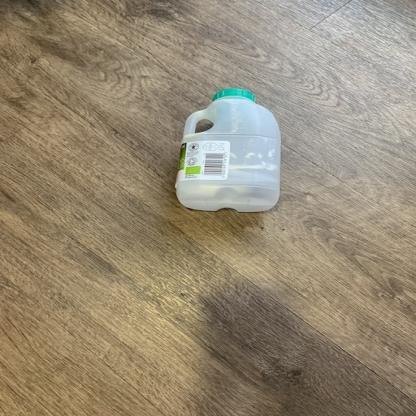trash: (174, 88, 288, 215)
